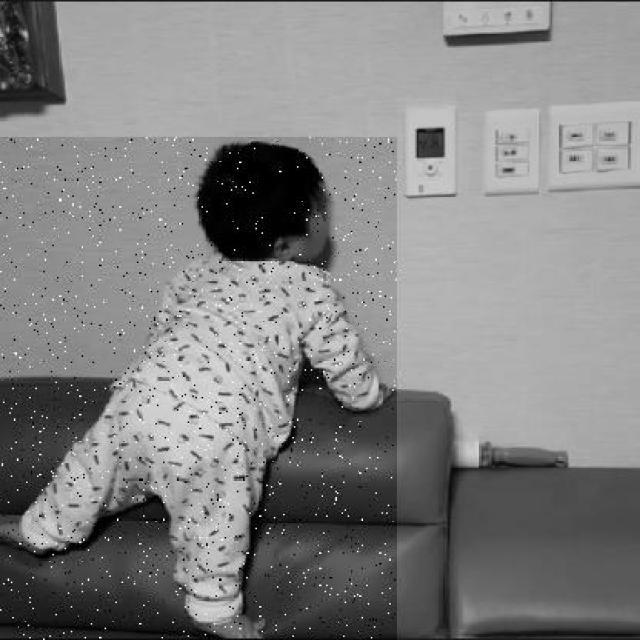child: (0, 137, 397, 640)
